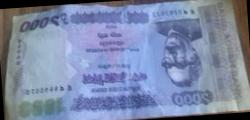1000 taka: (10, 8, 250, 116)
